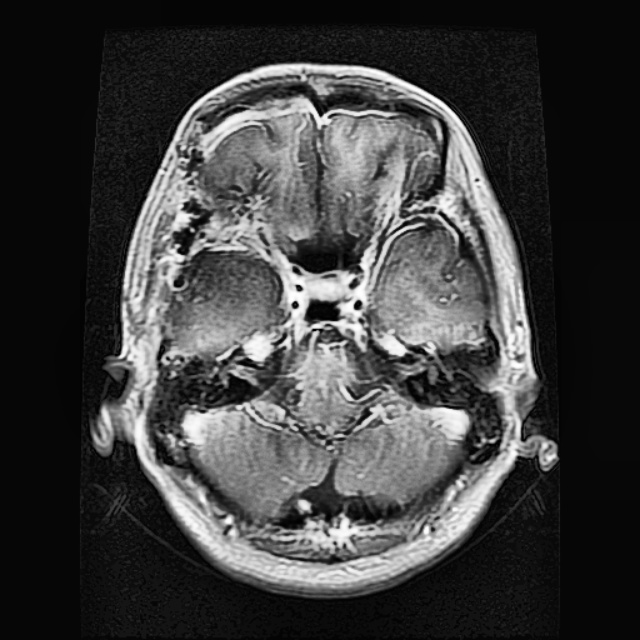Glioma: (167, 249, 289, 358)
